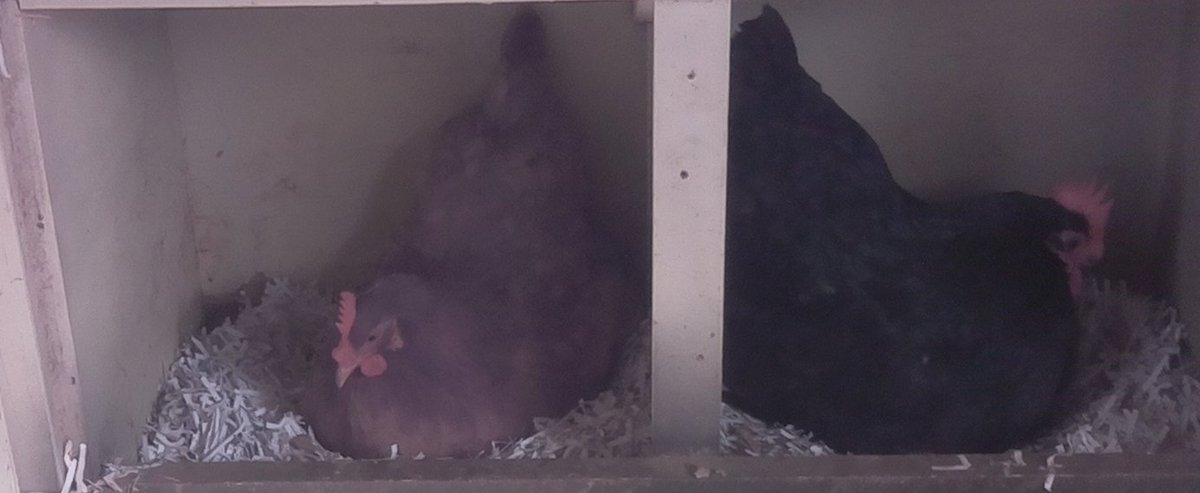hen: (730, 2, 1139, 455), (296, 15, 643, 458)
